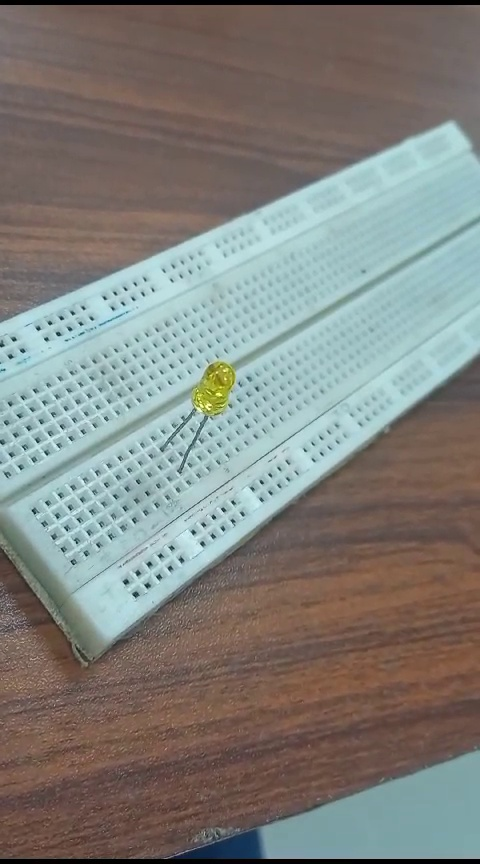LED: (159, 355, 246, 471)
